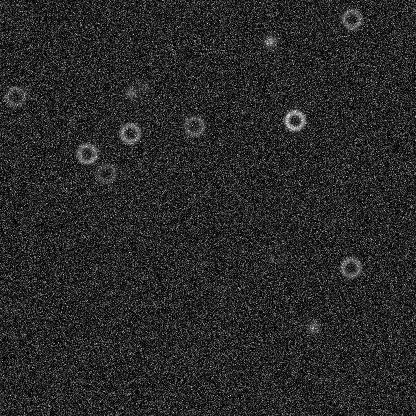Ring: (74, 141, 98, 165), (264, 241, 288, 265), (282, 108, 306, 132), (3, 84, 27, 108), (94, 161, 118, 185), (339, 7, 363, 31), (338, 255, 362, 279), (182, 113, 206, 137), (117, 121, 141, 145)
Spot: (122, 84, 138, 100), (137, 79, 153, 95), (305, 318, 321, 334), (261, 33, 277, 49)
